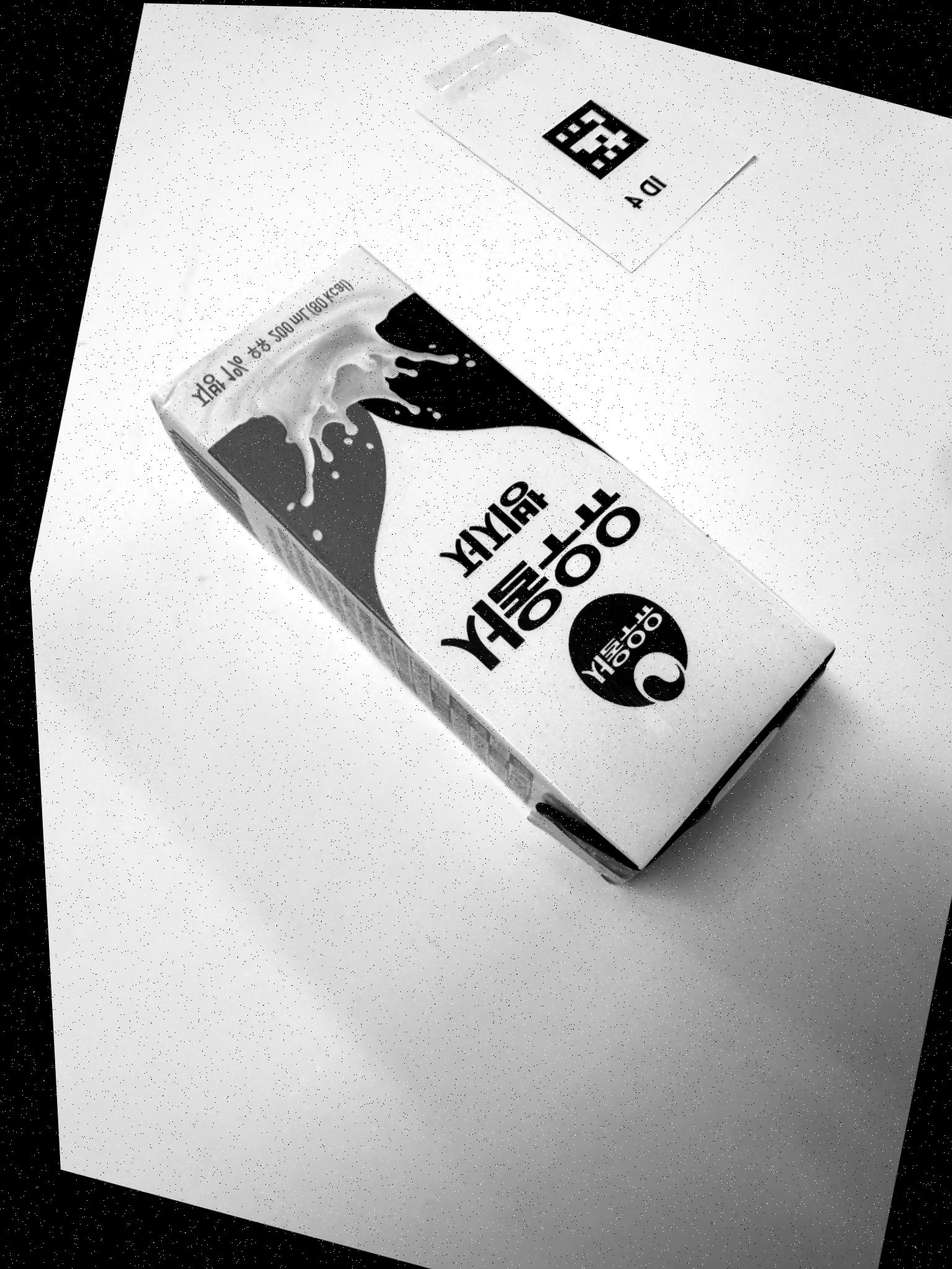milk_blue: (155, 250, 832, 882)
